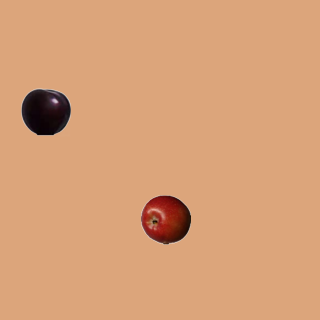Apple Braeburn: (140, 194, 190, 244)
Cherry Wax Black: (20, 86, 70, 136)
